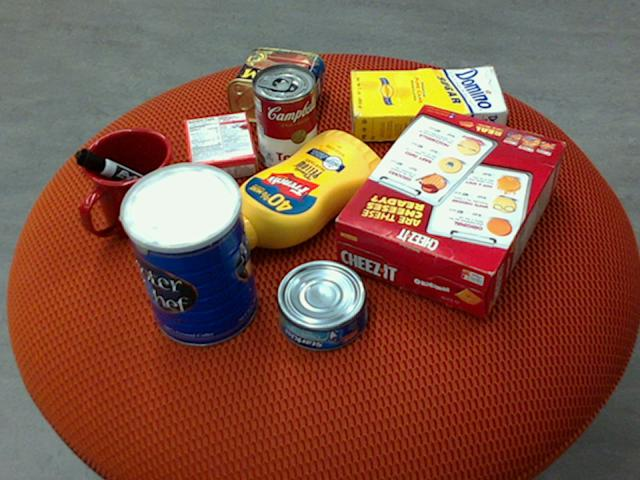cracker_box: (335, 103, 567, 316)
gelatin_box: (183, 110, 256, 184)
large_marker: (73, 148, 176, 205)
master_chef_can: (116, 163, 258, 347)
mug: (80, 127, 180, 237)
mustard_bottle: (214, 129, 386, 253)
potted_meat_can: (227, 47, 326, 127)
sugar_box: (349, 65, 508, 141)
tomato_soup_can: (252, 62, 317, 172)
tuna_fish_can: (277, 260, 369, 352)
